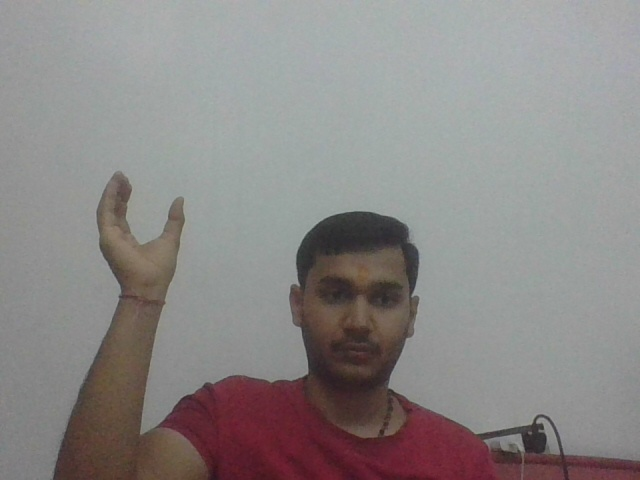U: (94, 168, 190, 305)
